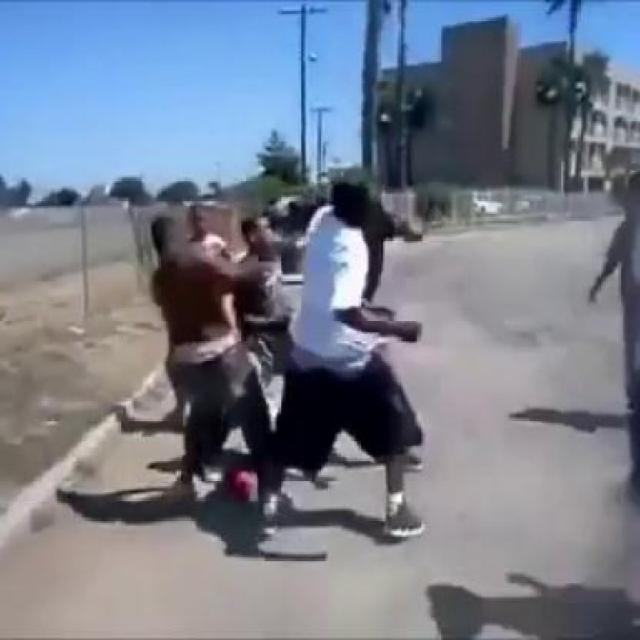fight: (238, 182, 430, 538)
